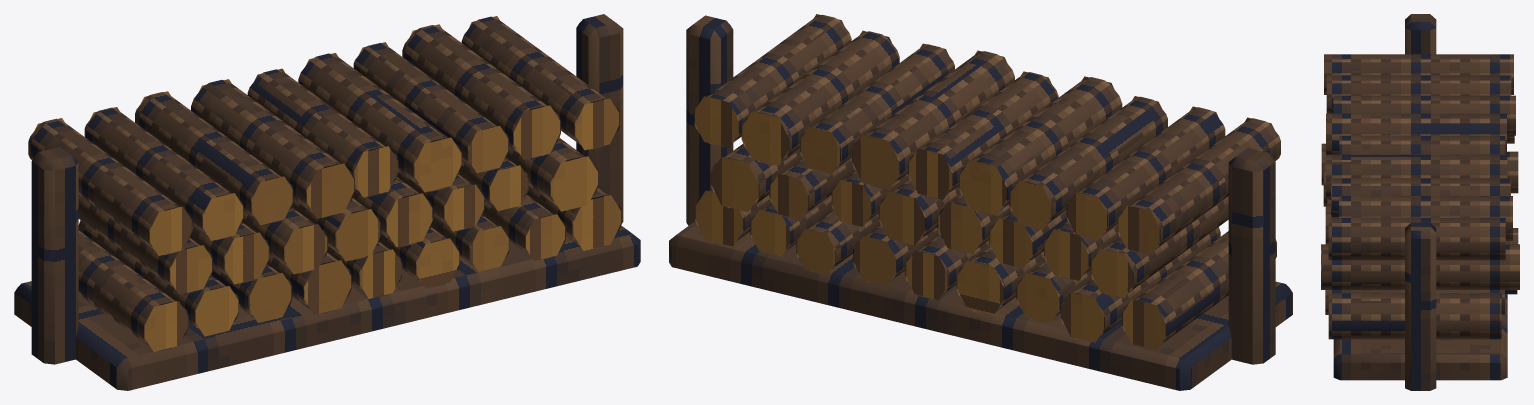
File: firewood_pile_2.glb
The picture shows the model from 3 angles, left to right: view 1: azimuth 30°, elevation 25°; view 2: azimuth 150°, elevation 25°; view 3: azimuth 270°, elevation 25°; orthographic projection. The views are drawn at different scales.
Visible parts, largest first — view 1: firewood_pile_3; view 2: firewood_pile_3; view 3: firewood_pile_3.
Part boxes in pixels (left/top/right/bottom): firewood_pile_3: left=14, top=14, right=640, bottom=390; firewood_pile_3: left=669, top=14, right=1292, bottom=390; firewood_pile_3: left=1321, top=14, right=1519, bottom=390.
Bounding box in the file's own units: 1.66 × 0.55 × 0.6285.
3 materials, 3 textured.
